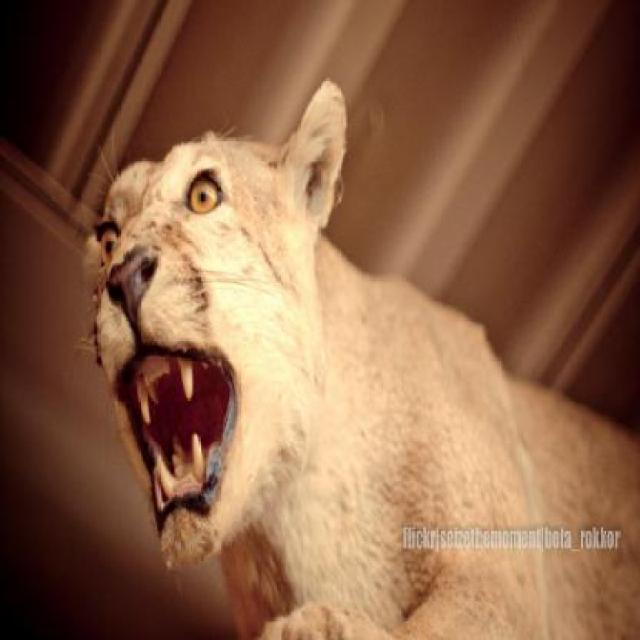Lion: (74, 63, 638, 639)
